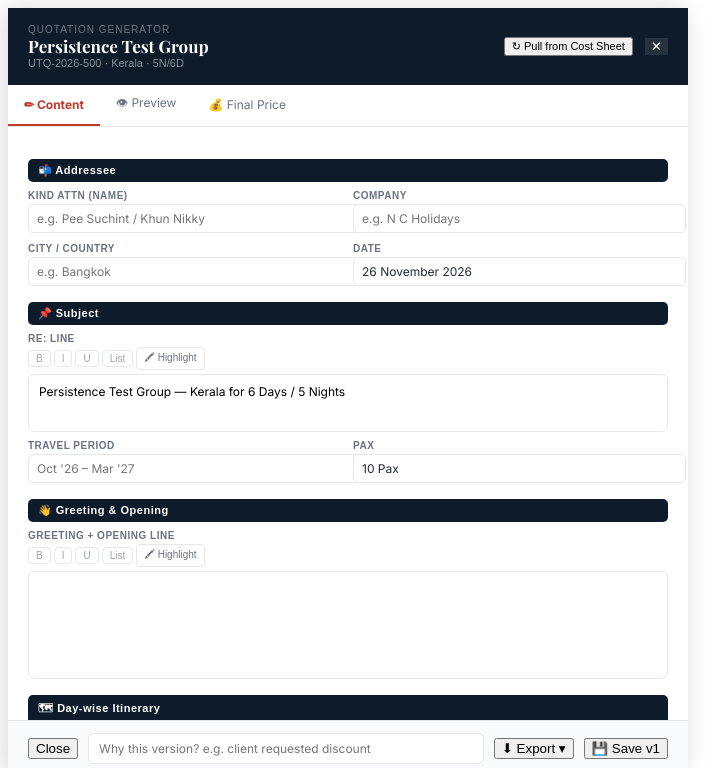
QuotationGenerator: "Pull from Cost Sheet" (#11/#12 -- addressee, itinerary, accommodation, cost without retyping) › shows a message and does not crash when there is genuinely no Cost Sheet version for this query at all (Item 2 fix superseded the old "costSheetId must match ex
Click the button "↻ Pull from Cost Sheet" at point(568, 46), box x1=504 y1=37 x2=633 y2=56
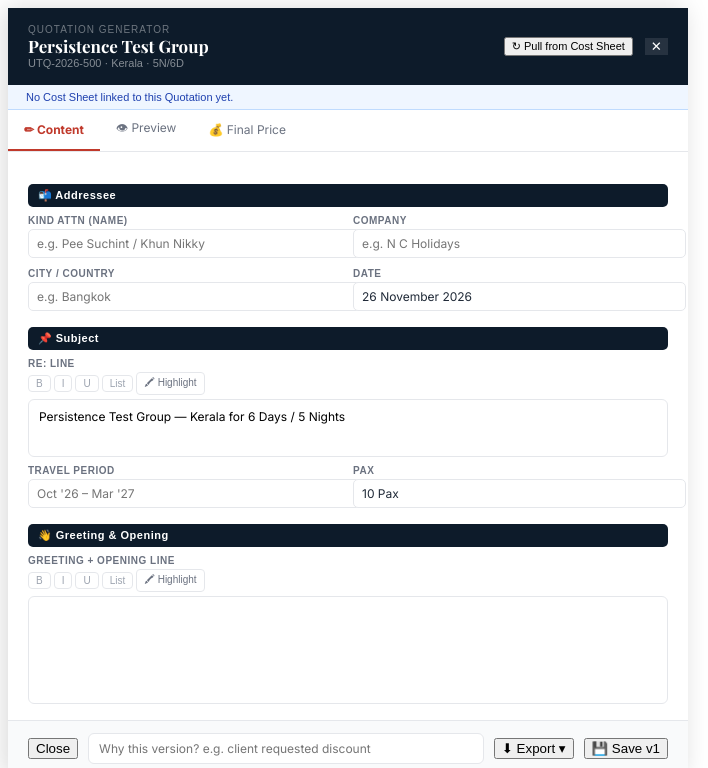
Expected: the text "No Cost Sheet linked to this Quotation yet." is shown, x1=8 y1=85 x2=688 y2=110
